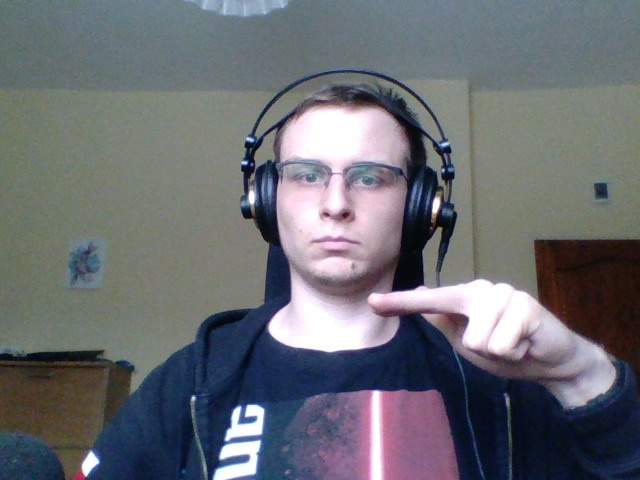no: (360, 251, 594, 394)
